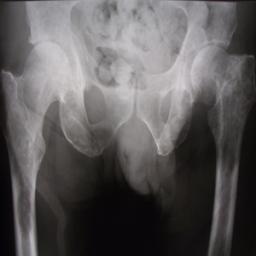cancer: (194, 48, 256, 256), (4, 75, 38, 256), (59, 89, 113, 158)
